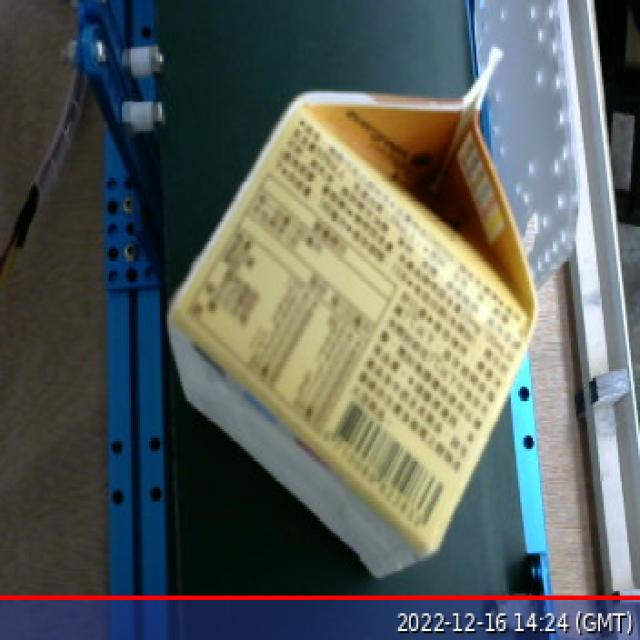non_white_jug: (108, 34, 584, 611)
